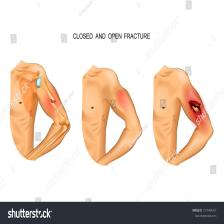closed-simple-fracture: (8, 51, 217, 176)
